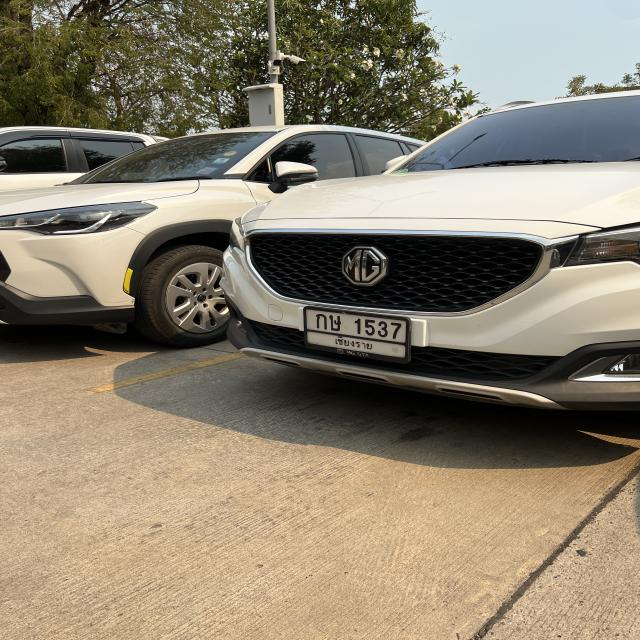license_plate: (302, 305, 409, 363)
